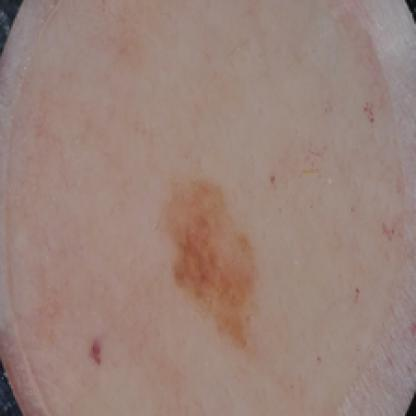malignant: (152, 177, 282, 349)
